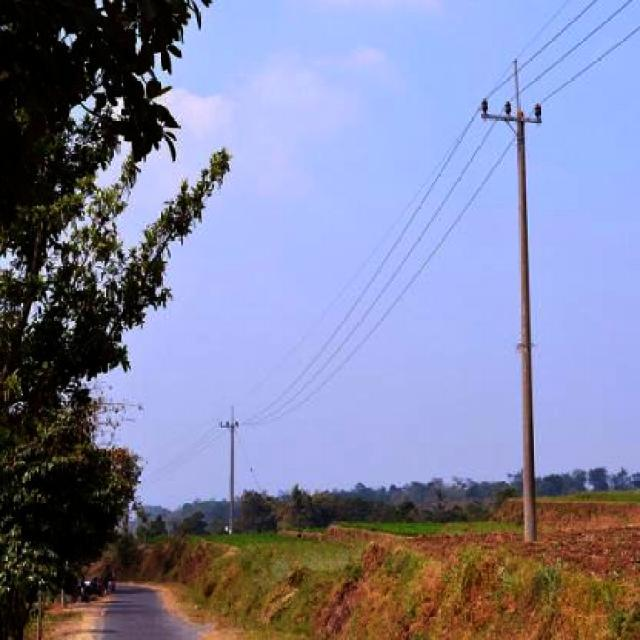crossarm: (480, 106, 545, 126)
pole: (511, 115, 538, 546)
wire: (235, 0, 632, 430), (257, 26, 639, 425), (238, 1, 597, 425)
